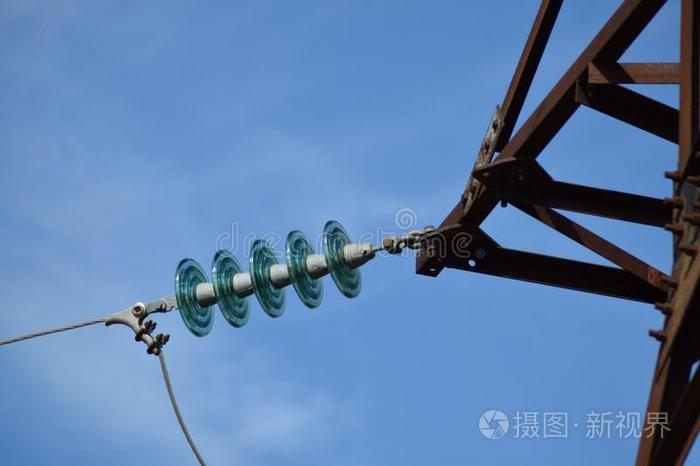insulator: (177, 222, 361, 337)
